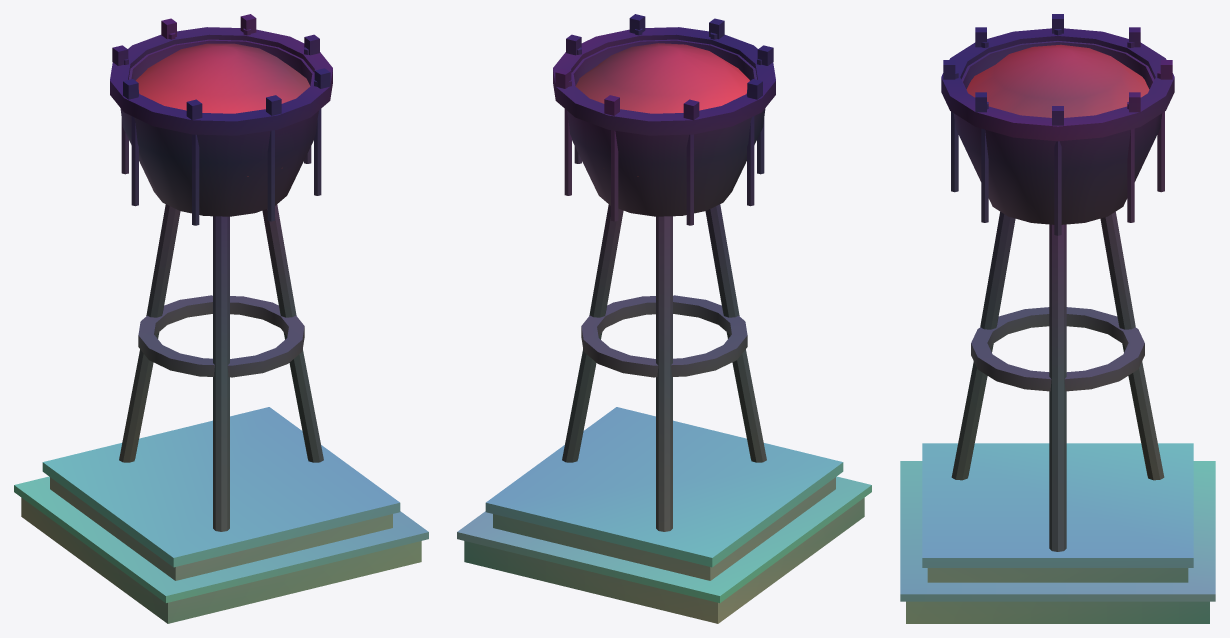
Rendered from beacon_brazier.glb.
The picture shows the model from 3 angles, left to right: view 1: azimuth 30°, elevation 25°; view 2: azimuth 150°, elevation 25°; view 3: azimuth 270°, elevation 25°; orthographic projection. The views are drawn at different scales.
Visible parts, largest first — view 1: beacon_foot_trim, beacon_basket, beacon_foot, beacon_coals, beacon_rim, beacon_brace, beacon_ribs, beacon_leg.002, beacon_leg.001, beacon_leg; view 2: beacon_foot_trim, beacon_basket, beacon_foot, beacon_coals, beacon_rim, beacon_brace, beacon_ribs, beacon_leg.001, beacon_leg.002, beacon_leg; view 3: beacon_foot_trim, beacon_basket, beacon_foot, beacon_coals, beacon_rim, beacon_brace, beacon_leg, beacon_ribs, beacon_leg.001, beacon_leg.002.
Part boxes in pixels (x1=…): beacon_foot_trim: x1=14, y1=407, x2=428, y2=602; beacon_basket: x1=120, y1=39, x2=318, y2=216; beacon_foot: x1=21, y1=477, x2=421, y2=623; beacon_coals: x1=135, y1=43, x2=310, y2=176; beacon_rim: x1=110, y1=27, x2=332, y2=135; beacon_brace: x1=138, y1=295, x2=304, y2=377; beacon_ribs: x1=112, y1=14, x2=330, y2=225; beacon_leg.002: x1=213, y1=216, x2=229, y2=531; beacon_leg.001: x1=119, y1=204, x2=180, y2=462; beacon_leg: x1=262, y1=204, x2=323, y2=462; beacon_foot_trim: x1=457, y1=407, x2=871, y2=602; beacon_basket: x1=567, y1=39, x2=765, y2=216; beacon_foot: x1=464, y1=477, x2=864, y2=623; beacon_coals: x1=575, y1=43, x2=749, y2=176; beacon_rim: x1=553, y1=27, x2=775, y2=135; beacon_brace: x1=581, y1=295, x2=747, y2=377; beacon_ribs: x1=555, y1=14, x2=773, y2=225; beacon_leg.001: x1=656, y1=216, x2=672, y2=531; beacon_leg.002: x1=705, y1=204, x2=766, y2=462; beacon_leg: x1=562, y1=204, x2=623, y2=462; beacon_foot_trim: x1=900, y1=443, x2=1215, y2=601; beacon_basket: x1=953, y1=41, x2=1162, y2=224; beacon_foot: x1=906, y1=568, x2=1209, y2=623; beacon_coals: x1=966, y1=44, x2=1149, y2=117; beacon_rim: x1=941, y1=28, x2=1174, y2=141; beacon_brace: x1=971, y1=307, x2=1144, y2=391; beacon_leg: x1=1049, y1=224, x2=1066, y2=551; beacon_ribs: x1=943, y1=14, x2=1172, y2=235; beacon_leg.001: x1=1100, y1=211, x2=1164, y2=480; beacon_leg.002: x1=951, y1=211, x2=1015, y2=480.
Bounding box in the file's own units: 1.16 × 2.05 × 1.16.
